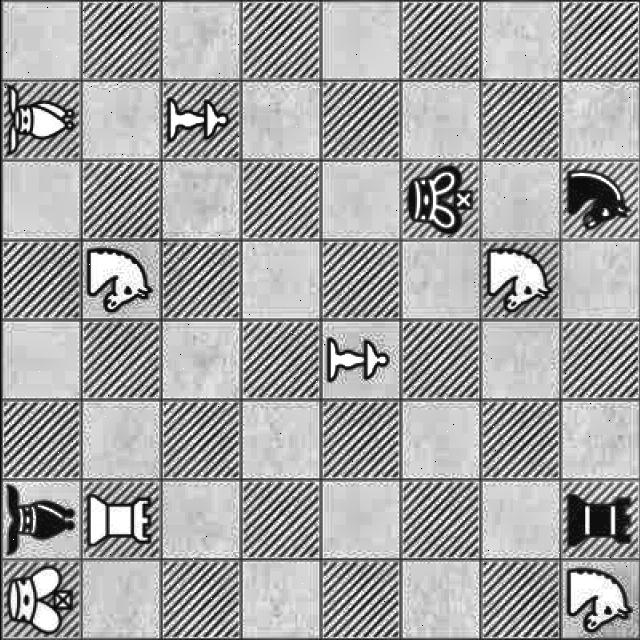Black Knight: (564, 163, 632, 230)
black bishop: (0, 480, 79, 559)
black king: (406, 162, 481, 238)
black rook: (563, 492, 640, 554)
white bishop: (0, 86, 82, 156)
white king: (1, 567, 76, 637)
white pawn: (165, 86, 232, 154), (320, 329, 390, 385)
white rook: (84, 482, 154, 554)
whiteknight: (562, 565, 634, 639), (82, 242, 154, 316), (481, 246, 556, 316)
